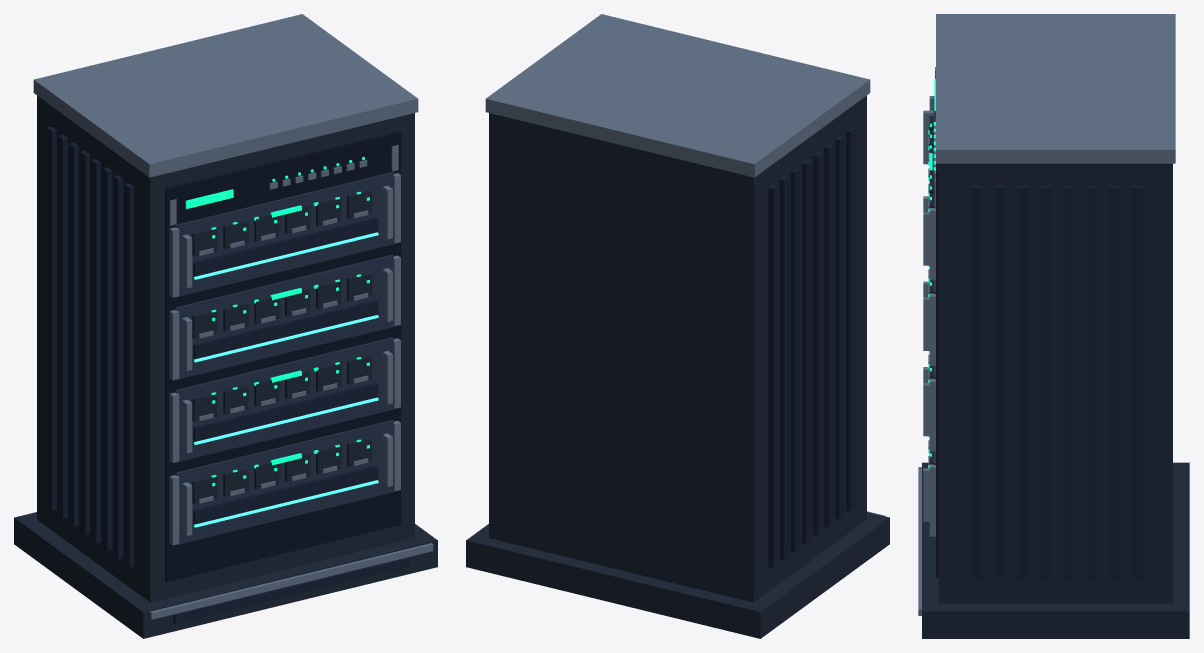
The model's file is edge_server.glb.
The picture shows the model from 3 angles, left to right: view 1: azimuth 30°, elevation 25°; view 2: azimuth 150°, elevation 25°; view 3: azimuth 270°, elevation 25°; orthographic projection. The views are drawn at different scales.
Parts seen in each view (by area): view 1: RackEnclosure, OuterChassis, InnerBay, BladeUnit_3, BladeUnit_0, BladeUnit_1, BladeUnit_2, PedestalAssembly, EdgeControllerSwitch, emmis_fiber_channel_3, emmis_fiber_channel_0, emmis_fiber_channel_1 (+1 smaller); view 2: OuterChassis, RackEnclosure, PedestalAssembly; view 3: OuterChassis, RackEnclosure, PedestalAssembly, BladeUnit_3, InnerBay, BladeUnit_1, BladeUnit_0, BladeUnit_2.
Part boxes in pixels (<box>): RackEnclosure: <box>33,14,418,567</box>; OuterChassis: <box>37,95,414,602</box>; InnerBay: <box>165,131,401,581</box>; BladeUnit_3: <box>169,172,400,297</box>; BladeUnit_0: <box>169,420,400,545</box>; BladeUnit_1: <box>169,337,400,462</box>; BladeUnit_2: <box>169,254,400,380</box>; PedestalAssembly: <box>14,512,437,638</box>; EdgeControllerSwitch: <box>169,145,398,225</box>; emmis_fiber_channel_3: <box>194,232,378,279</box>; emmis_fiber_channel_0: <box>194,480,378,527</box>; emmis_fiber_channel_1: <box>194,397,378,444</box>; OuterChassis: <box>489,95,866,602</box>; RackEnclosure: <box>485,14,870,568</box>; PedestalAssembly: <box>466,511,889,638</box>; OuterChassis: <box>938,163,1172,603</box>; RackEnclosure: <box>936,14,1175,580</box>; PedestalAssembly: <box>918,462,1189,638</box>; BladeUnit_3: <box>923,96,935,280</box>; InnerBay: <box>936,163,938,577</box>; BladeUnit_1: <box>923,281,935,451</box>; BladeUnit_0: <box>923,367,935,536</box>; BladeUnit_2: <box>923,196,935,365</box>.
Bounding box in the file's own units: 1.38 × 2.09 × 1.06.
